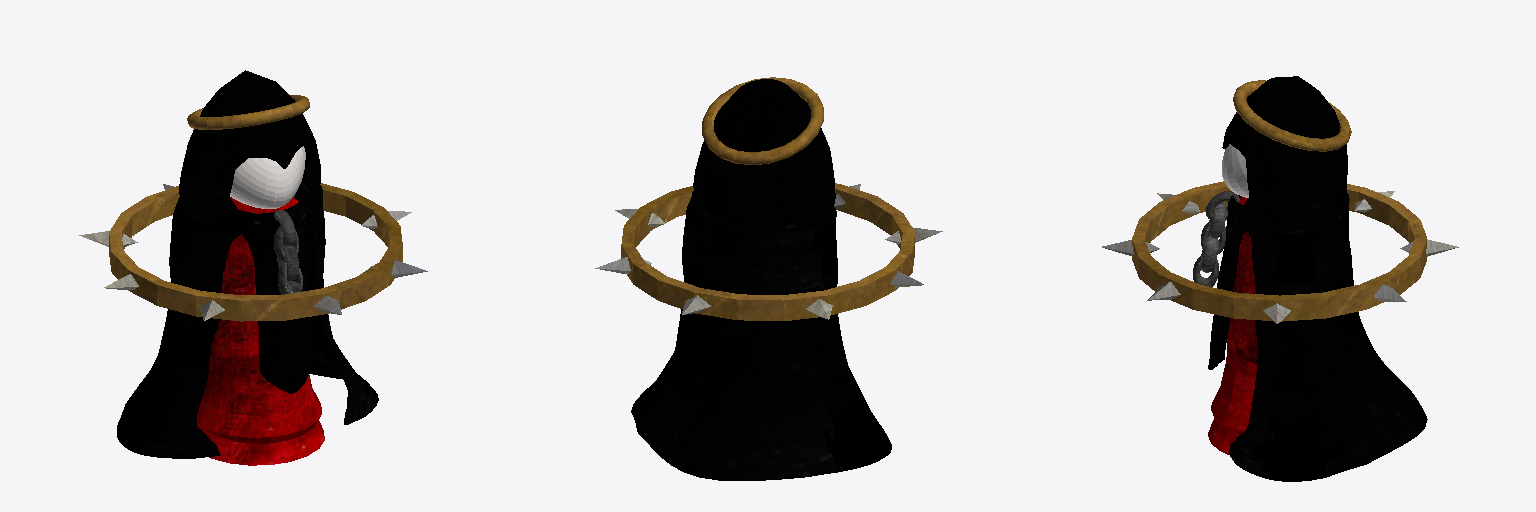
3 renders of one model, left to right at view 1: azimuth 30°, elevation 25°; view 2: azimuth 150°, elevation 25°; view 3: azimuth 270°, elevation 25°, orthographic.
Parts seen in each view (by area): view 1: polySurface2; view 2: polySurface2; view 3: polySurface2.
Part boxes in pixels (left/top/right/bottom): polySurface2: left=79, top=70, right=427, bottom=465; polySurface2: left=595, top=77, right=942, bottom=480; polySurface2: left=1102, top=76, right=1458, bottom=481.
Size of the model in its own units: 2.05 by 2.26 by 2.06.
Materials: 1 (1 with a texture image).